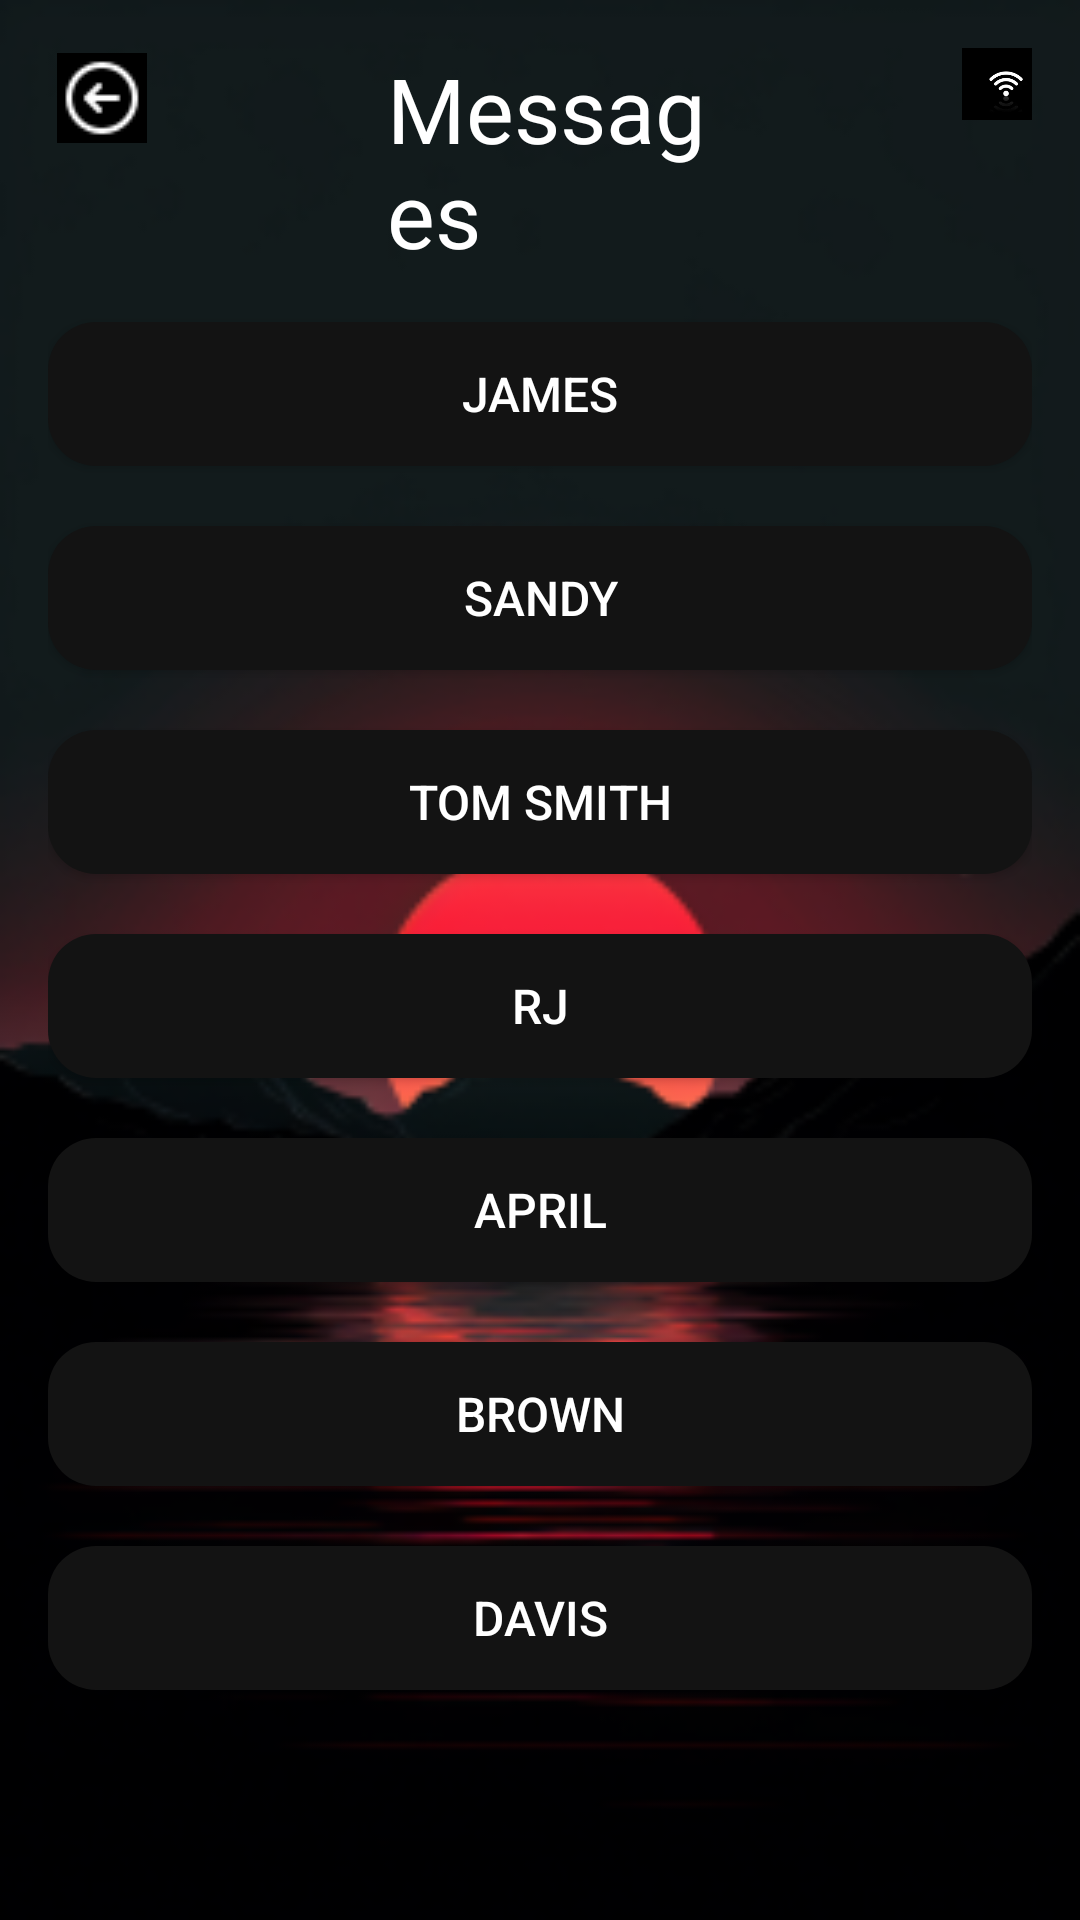

Screen size 1080px x 1920px. Icon name, then its center in pixels as point (x, y):
back: point (102, 98)
